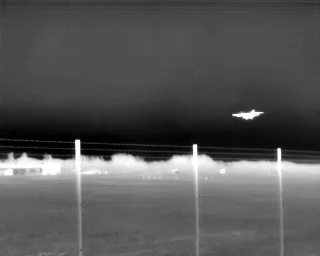AIRPLANE: (229, 106, 266, 123)
